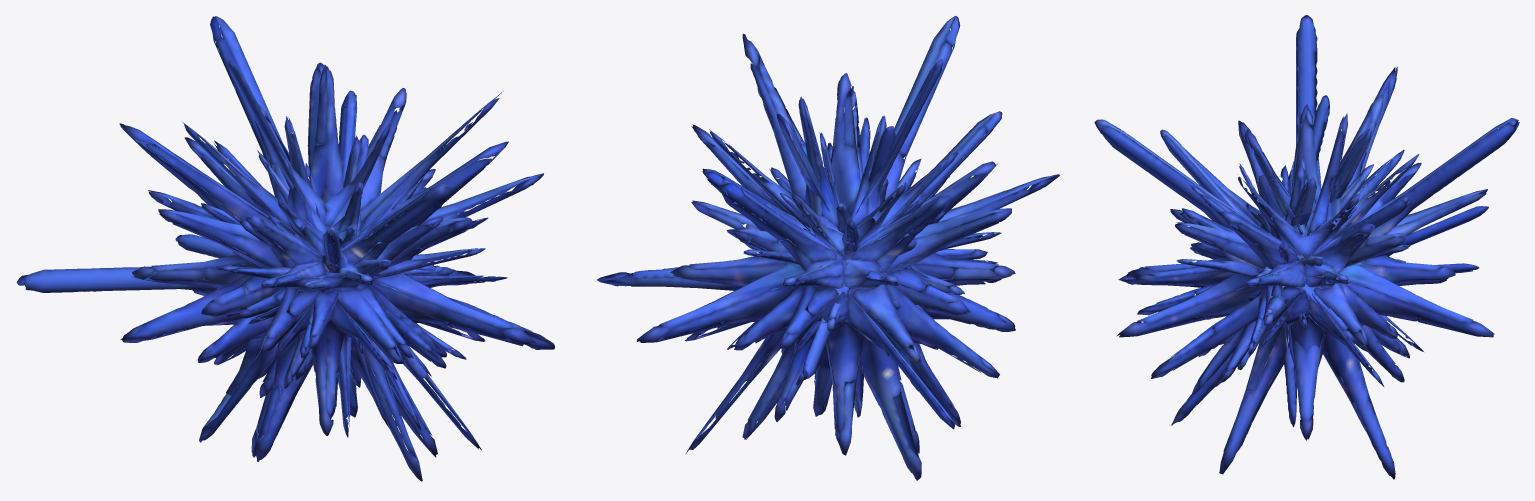
The model's file is TiberiumNeg.FBX.
3 renders of one model, left to right at view 1: azimuth 30°, elevation 25°; view 2: azimuth 150°, elevation 25°; view 3: azimuth 270°, elevation 25°, orthographic. The views are drawn at different scales.
Parts seen in each view (by area): view 1: GeoSphere02, GeoSphere03; view 2: GeoSphere02, GeoSphere03; view 3: GeoSphere02, GeoSphere03.
Part boxes in pixels (<box>): GeoSphere02: <box>16,16,554,481</box>; GeoSphere03: <box>175,90,507,437</box>; GeoSphere02: <box>597,16,1059,480</box>; GeoSphere03: <box>704,86,1002,417</box>; GeoSphere02: <box>1094,15,1519,479</box>; GeoSphere03: <box>1132,95,1479,426</box>.
Bounding box in the file's own units: 220829 × 214192 × 209975.
Materials: 1 (1 with a texture image).
